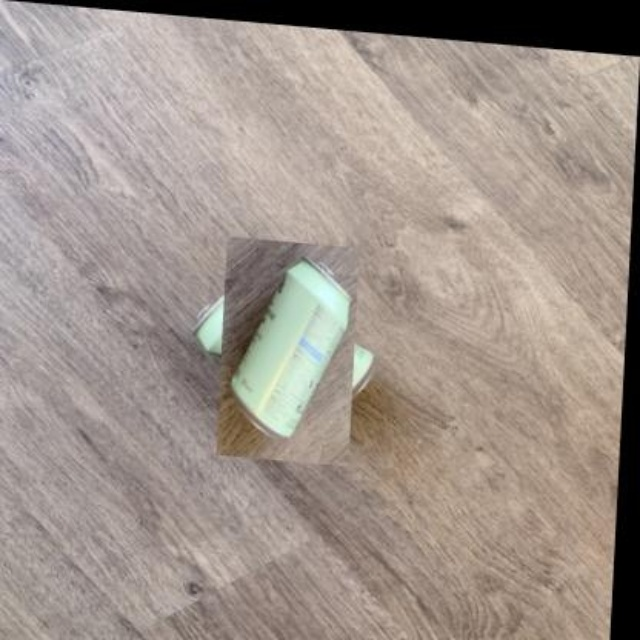trash: (231, 260, 349, 435), (195, 295, 223, 354)
